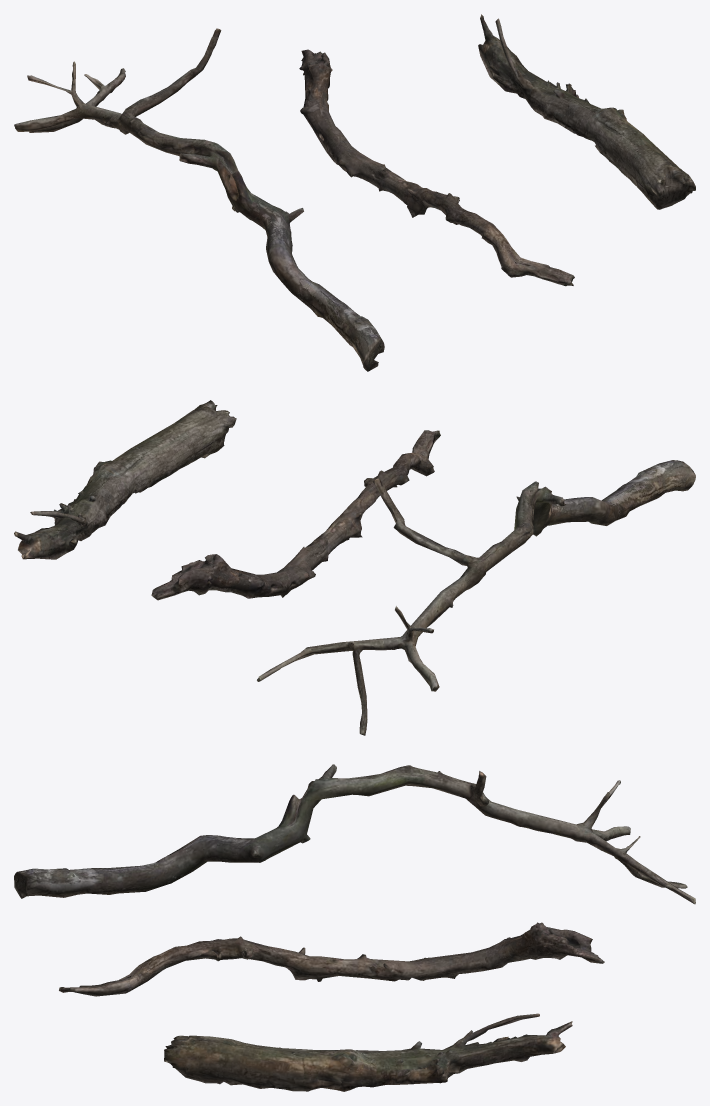
Rendered from dry_branches_medium_01.glb.
The picture shows the model from 3 angles, top to bottom: view 1: azimuth 30°, elevation 25°; view 2: azimuth 150°, elevation 25°; view 3: azimuth 270°, elevation 25°; orthographic projection. The views are drawn at different scales.
Parts seen in each view (by area): view 1: dry_branches_medium_01_a, dry_branches_medium_01_c, dry_branches_medium_01_b; view 2: dry_branches_medium_01_a, dry_branches_medium_01_c, dry_branches_medium_01_b; view 3: dry_branches_medium_01_a, dry_branches_medium_01_c, dry_branches_medium_01_b.
Part boxes in pixels (x1,y1,x2,y2): dry_branches_medium_01_a: (14, 28, 384, 371); dry_branches_medium_01_c: (478, 14, 695, 209); dry_branches_medium_01_b: (299, 49, 574, 286); dry_branches_medium_01_a: (257, 460, 695, 735); dry_branches_medium_01_c: (14, 400, 236, 559); dry_branches_medium_01_b: (151, 430, 440, 600); dry_branches_medium_01_a: (14, 764, 695, 904); dry_branches_medium_01_c: (164, 1013, 572, 1091); dry_branches_medium_01_b: (59, 922, 604, 996).
Size of the model in its own units: 1.06 by 0.34 by 1.3.
Materials: 1 (1 with a texture image).
